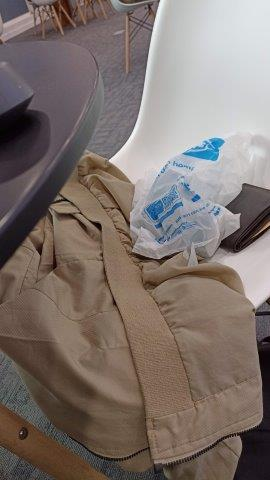plastik: (131, 134, 253, 258)
